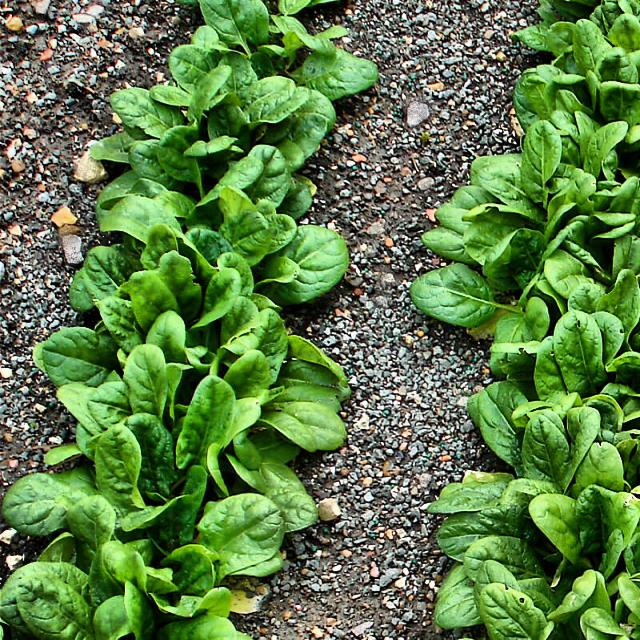spinach: (21, 3, 576, 633)
